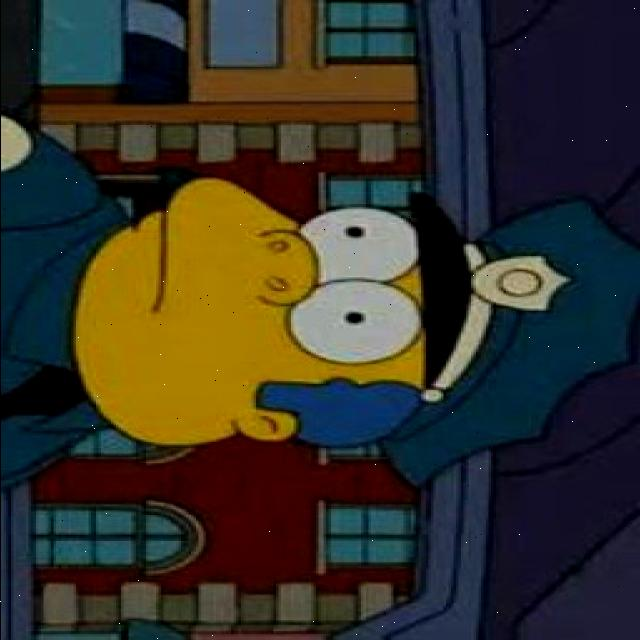Chief Wiggam: (55, 174, 640, 496)
